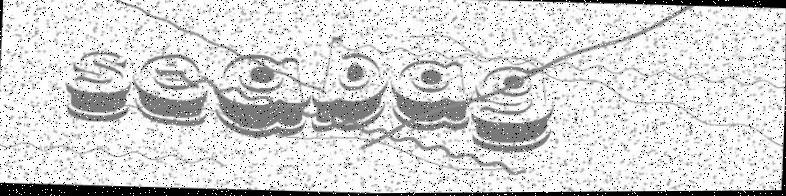a: (215, 52, 313, 140), (390, 58, 472, 134)
b: (311, 34, 390, 134)
e: (133, 52, 211, 127)
g: (471, 64, 557, 154)
s: (64, 47, 134, 123)
